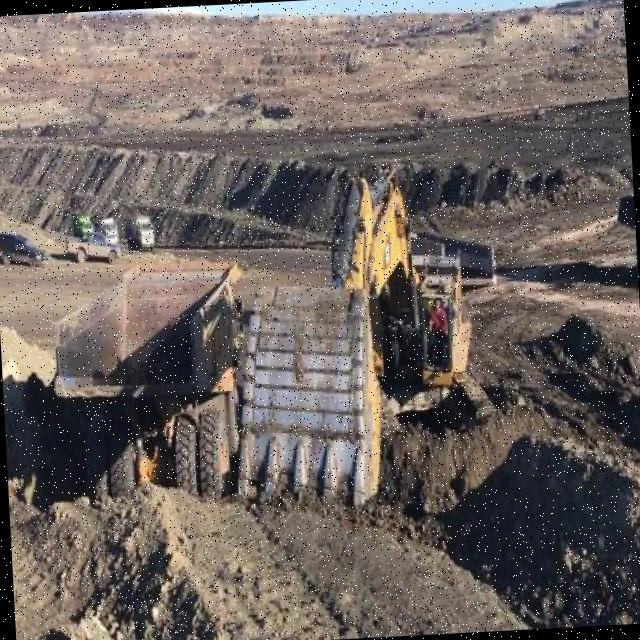Dump Truck: (46, 246, 264, 491), (616, 192, 638, 284)
Excavator: (222, 156, 503, 534)
